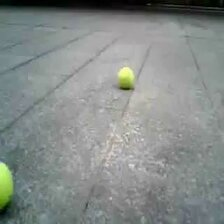tennis: (1, 156, 14, 208), (119, 67, 135, 88)
